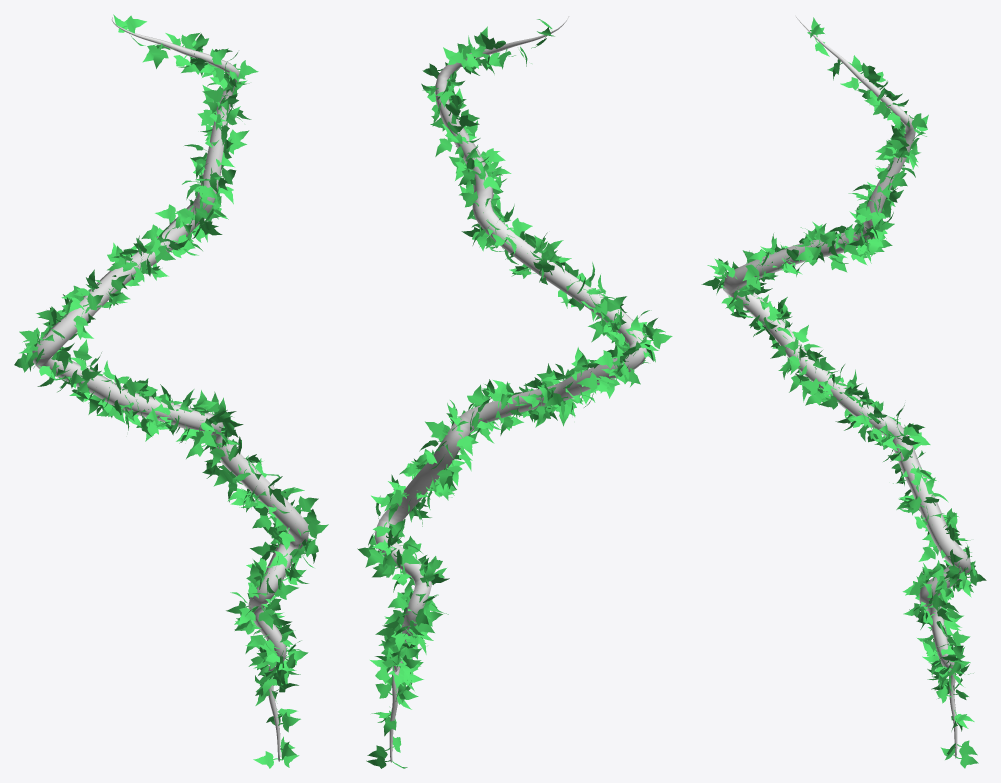
Rendered from VineDeco1.fbx.
3 views of the same model, side by side, from view 1: azimuth 30°, elevation 25°; view 2: azimuth 150°, elevation 25°; view 3: azimuth 330°, elevation 25° (orthographic). The views are drawn at different scales.
Visible parts, largest first — view 1: Leaves 1.663; view 2: Leaves 1.663; view 3: Leaves 1.663.
Boxes of the visible parts, <box> form: Leaves 1.663: <box>14,14,328,768</box>; Leaves 1.663: <box>357,16,672,768</box>; Leaves 1.663: <box>701,15,986,768</box>.
Bounding box in the file's own units: 648 × 1643 × 166.
